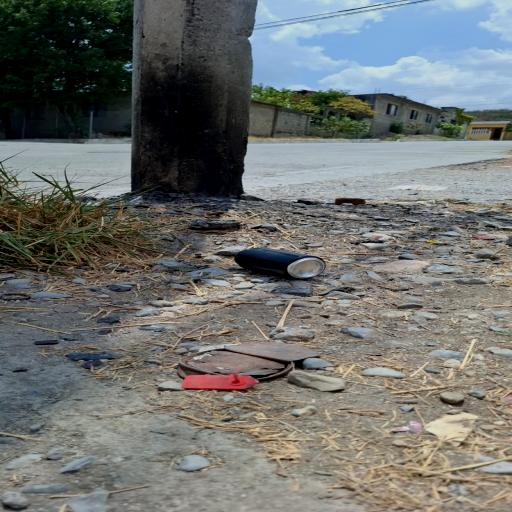LATA: (223, 242, 346, 284)
